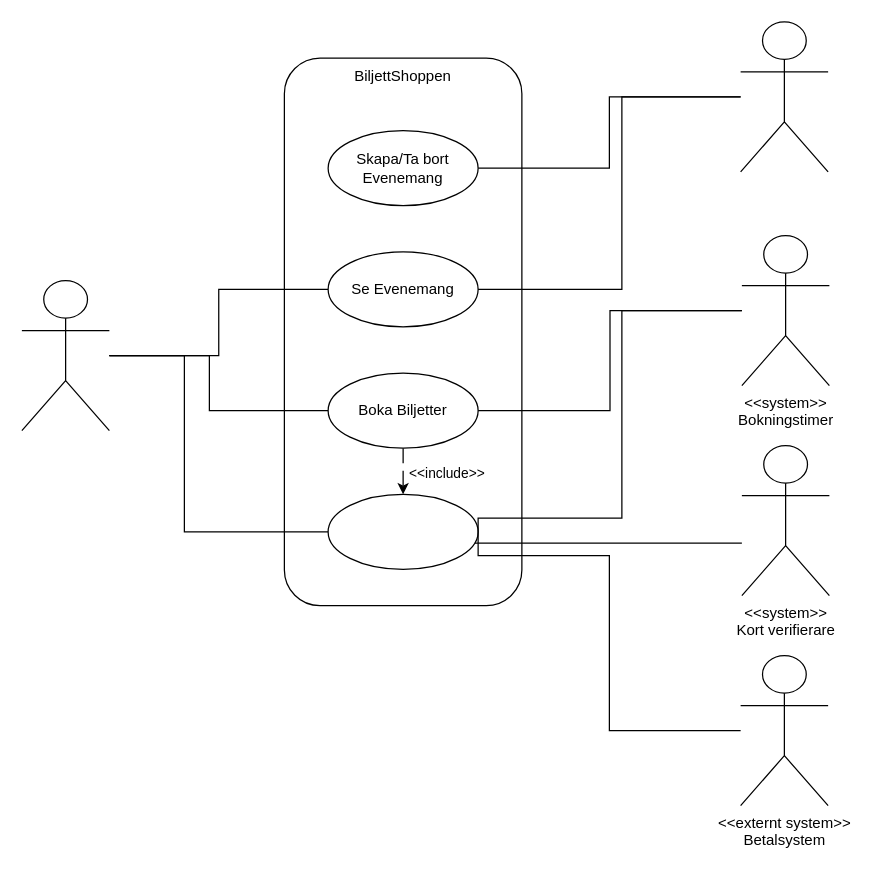
Image size: 873x873. Some labels were removed from this diagram. Here are the shapes that lost their labels. From the top down, the centre of each, then its label:
point (783, 96): Admin
point (65, 355): Kund
point (402, 531): Genomföra Köp
